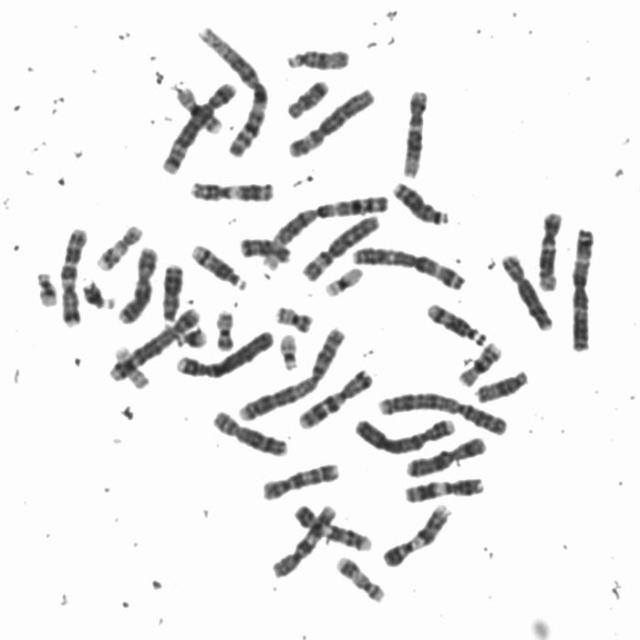A1: (193, 20, 272, 159), (261, 190, 391, 270)
A2: (234, 323, 349, 422), (373, 386, 509, 437)
A3: (347, 241, 468, 292), (566, 222, 598, 352)
B4: (171, 324, 277, 380), (350, 410, 459, 456)
B5: (105, 301, 205, 384), (157, 76, 240, 176)
C10: (266, 498, 339, 580), (257, 457, 343, 502)
C11: (399, 472, 487, 504), (185, 175, 277, 204)
C12: (398, 84, 430, 179), (532, 206, 564, 292)
C6: (283, 82, 377, 159), (299, 210, 383, 283)
C7: (295, 364, 375, 430), (56, 222, 90, 328)
C8: (496, 248, 555, 333), (207, 405, 290, 458)
C9: (379, 498, 453, 568), (290, 500, 375, 553)
D13: (388, 176, 452, 227), (158, 258, 186, 324)
D14: (187, 238, 250, 292), (422, 297, 489, 347)
D15: (471, 365, 531, 405), (281, 42, 353, 72)
E16: (170, 81, 223, 134), (454, 337, 505, 388)
E17: (331, 550, 386, 604), (92, 219, 145, 272)
E18: (282, 74, 332, 120), (235, 232, 293, 264)
F19: (110, 340, 152, 391), (320, 261, 366, 298)
F20: (270, 300, 315, 334), (211, 304, 238, 353)
G21: (78, 275, 118, 311), (172, 323, 210, 349)
G22: (274, 328, 302, 372), (35, 267, 58, 309)
X: (401, 431, 489, 478), (113, 241, 160, 325)
